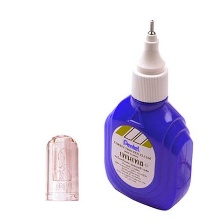correction_fluid: (102, 17, 195, 212)
